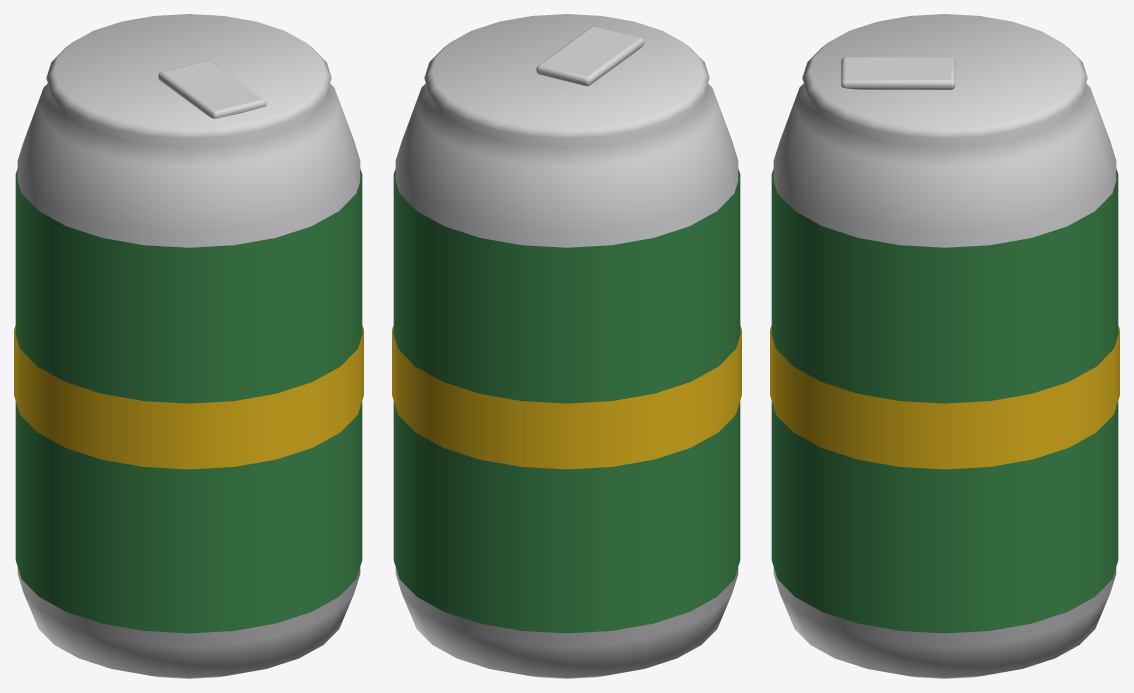
File: item_can_green.fbx
3 renders of one model, left to right at view 1: azimuth 30°, elevation 25°; view 2: azimuth 150°, elevation 25°; view 3: azimuth 270°, elevation 25°, orthographic.
Parts seen in each view (by area): view 1: item_can_green; view 2: item_can_green; view 3: item_can_green.
Part boxes in pixels (x1,y1,x2,y2): item_can_green: [14, 14, 363, 678]; item_can_green: [392, 14, 741, 678]; item_can_green: [770, 14, 1119, 678].
Bounding box in the file's own units: 0.0674 × 0.1195 × 0.0674.
